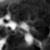node: (17, 20, 31, 33), (23, 32, 34, 45), (6, 21, 18, 31), (2, 14, 12, 21)
